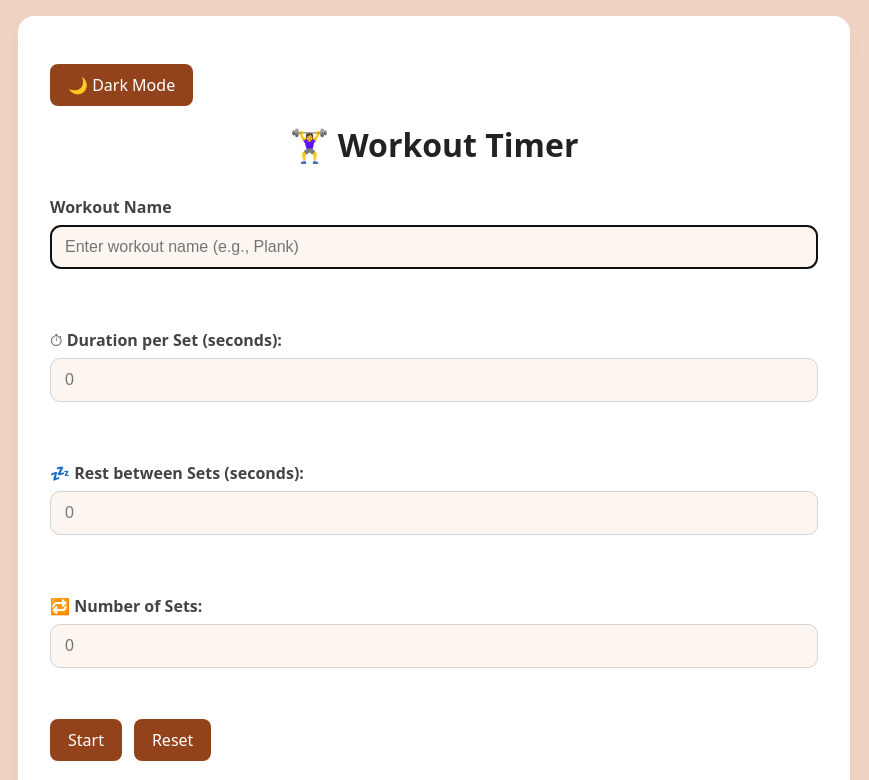
Test: Workout Timer App › disables inputs after clicking Start
# Simulate typing into the input fields
Type "Plank" into the field with placeholder "Enter workout name (e.g., Plank)" at (434, 247), box top-left (50, 225), bottom-right (818, 269)
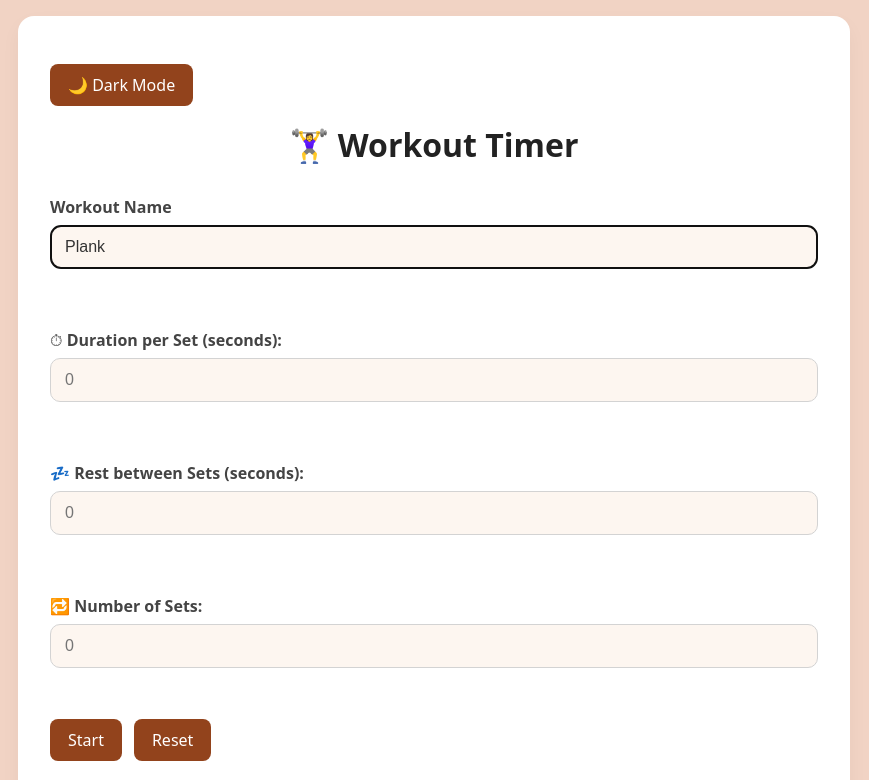
Type "30" into the number field labelled "⏱ Duration per Set (seconds):" at (434, 380), box top-left (50, 358), bottom-right (818, 402)
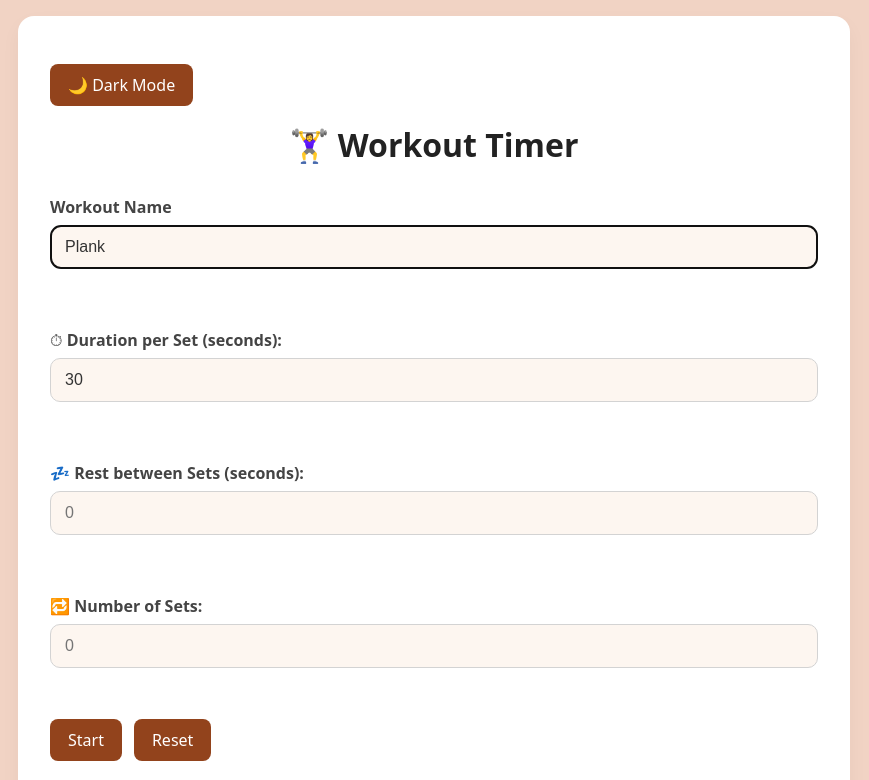
Type "10" into the number field labelled "💤 Rest between Sets (seconds):" at (434, 513), box top-left (50, 491), bottom-right (818, 535)
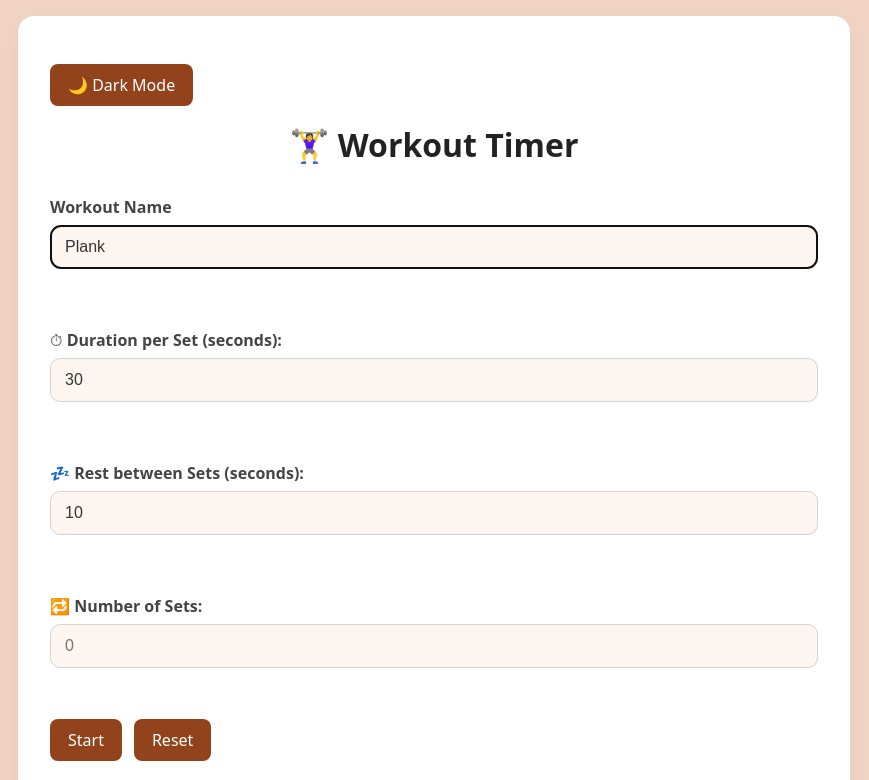
Type "3" into the number field labelled "🔁 Number of Sets:" at (434, 646), box top-left (50, 624), bottom-right (818, 668)
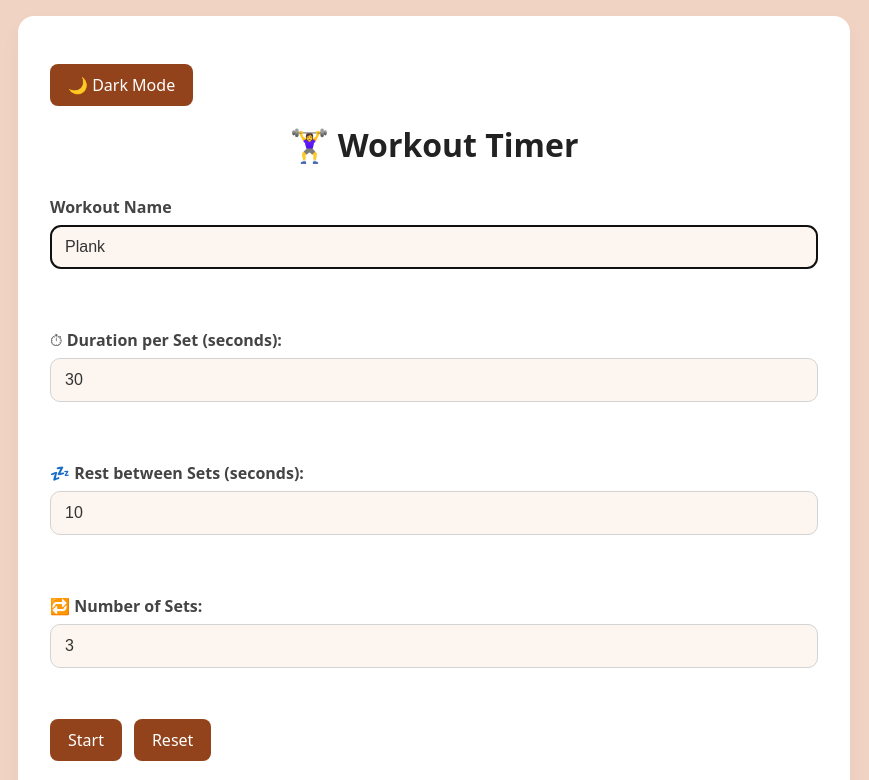
# Click the Start button
Click the button "Start" at (86, 740), box top-left (50, 719), bottom-right (122, 761)
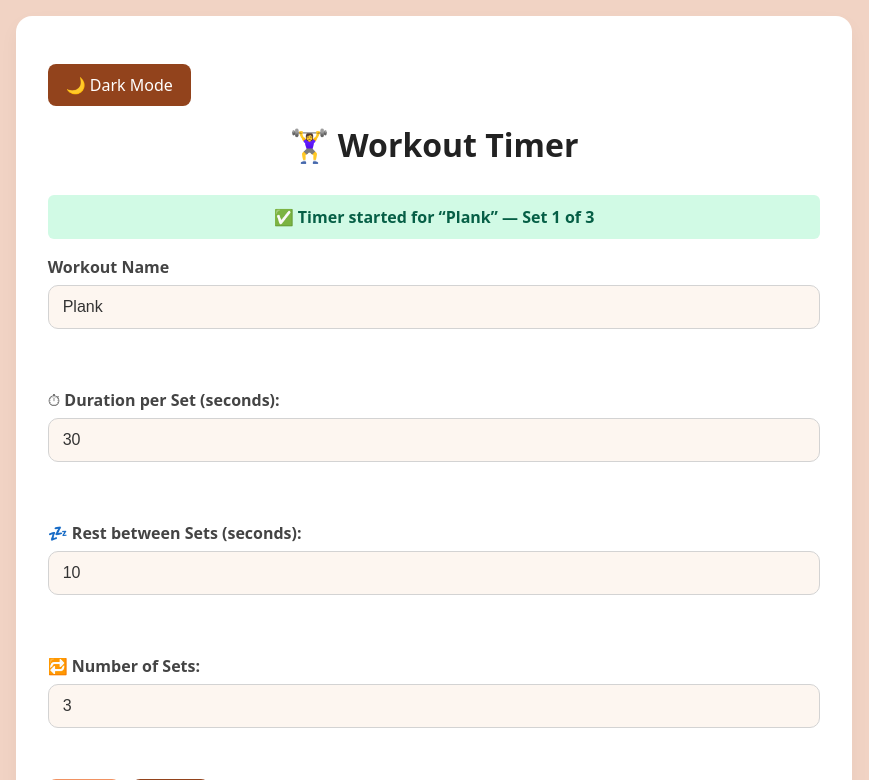
Expected: the field with placeholder "Enter workout name (e.g., Plank)" is disabled, top-left (48, 285), bottom-right (820, 329)
Expected: the number field labelled "⏱ Duration per Set (seconds):" is disabled, top-left (48, 418), bottom-right (820, 462)
Expected: the number field labelled "💤 Rest between Sets (seconds):" is disabled, top-left (48, 551), bottom-right (820, 595)
